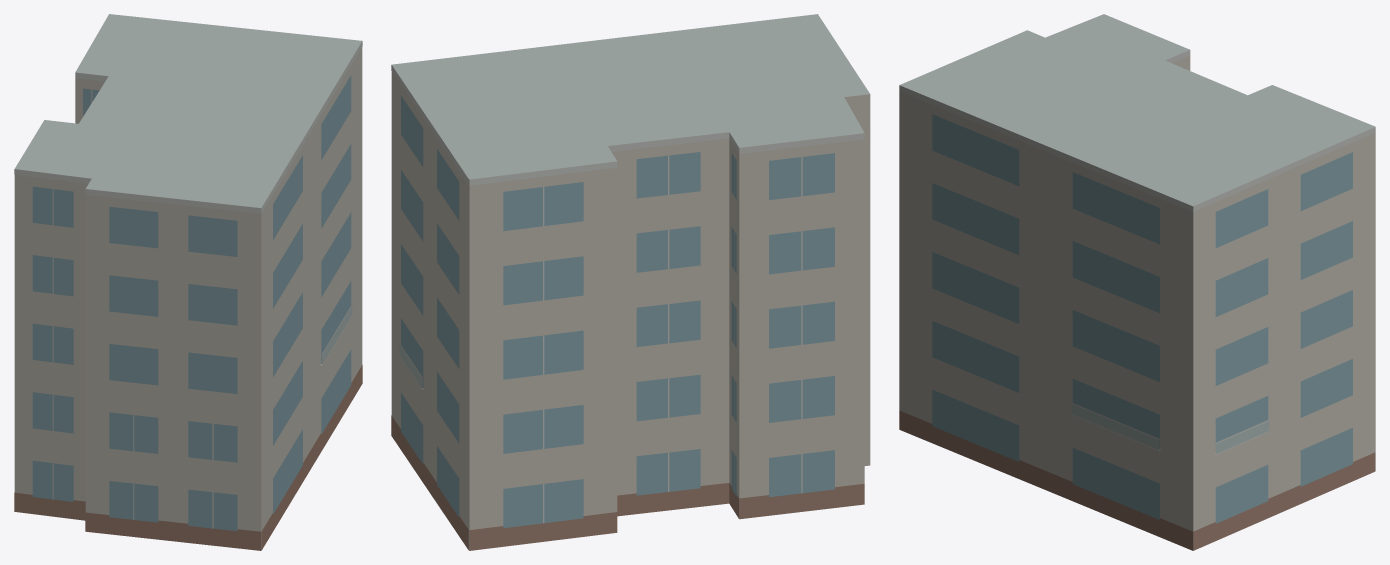
Rendered from survey-upis-32621443.glb.
3 views of the same model, side by side, from view 1: azimuth 30°, elevation 25°; view 2: azimuth 150°, elevation 25°; view 3: azimuth 270°, elevation 25° (orthographic). The views are drawn at different scales.
Parts seen in each view (by area): view 1: survey-upis-32621443.tmp; view 2: survey-upis-32621443.tmp; view 3: survey-upis-32621443.tmp.
Boxes of the visible parts, box(x1,y1,x2,y2) form: survey-upis-32621443.tmp: box(14, 14, 362, 550); survey-upis-32621443.tmp: box(391, 14, 870, 550); survey-upis-32621443.tmp: box(899, 14, 1375, 550).
Bounding box in the file's own units: 17.5 × 14.6 × 18.3.
